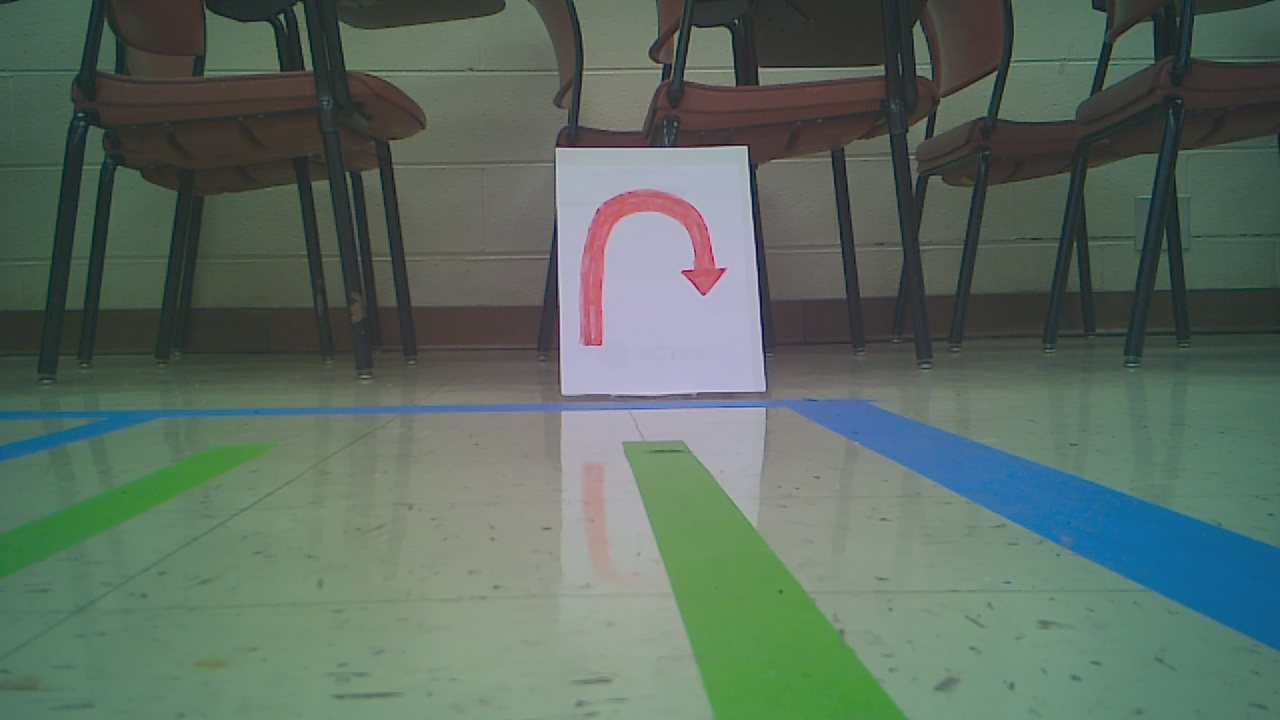greenline: (612, 441, 901, 720), (3, 442, 272, 580)
uturn: (577, 185, 732, 345)
